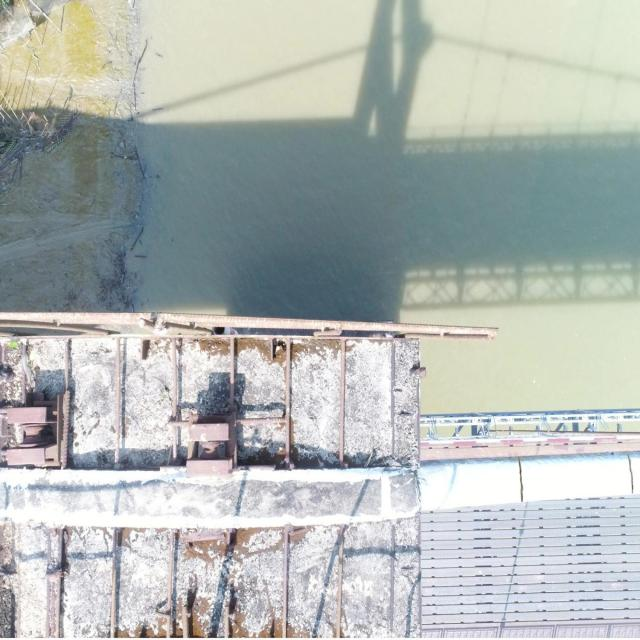crack: (626, 452, 635, 497), (518, 457, 525, 504)
